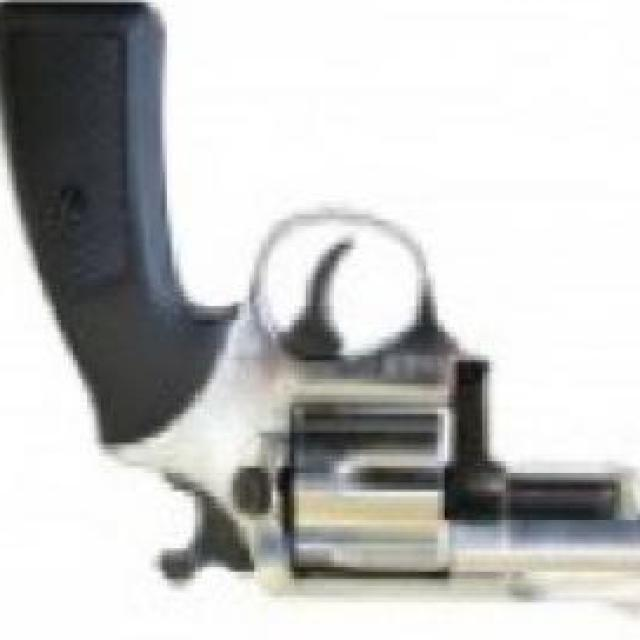pistol: (0, 2, 640, 619)
